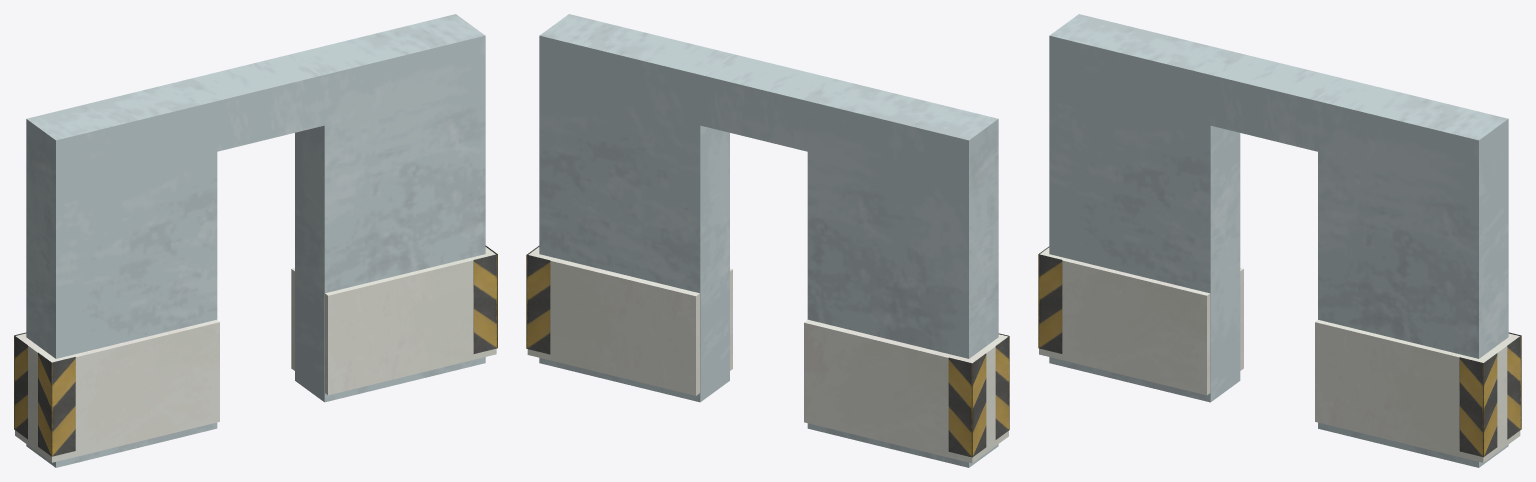
Rendered from door_wall.fbx.
3 renders of one model, left to right at view 1: azimuth 30°, elevation 25°; view 2: azimuth 150°, elevation 25°; view 3: azimuth 330°, elevation 25°, orthographic.
Parts seen in each view (by area): view 1: strip.004; view 2: strip.004; view 3: strip.004.
Boxes of the visible parts, <box> form: strip.004: <box>14,14,497,467</box>; strip.004: <box>526,14,1009,467</box>; strip.004: <box>1038,14,1521,467</box>.
Size of the model in its own units: 563 by 395 by 82.92.
2 materials, 2 textured.
